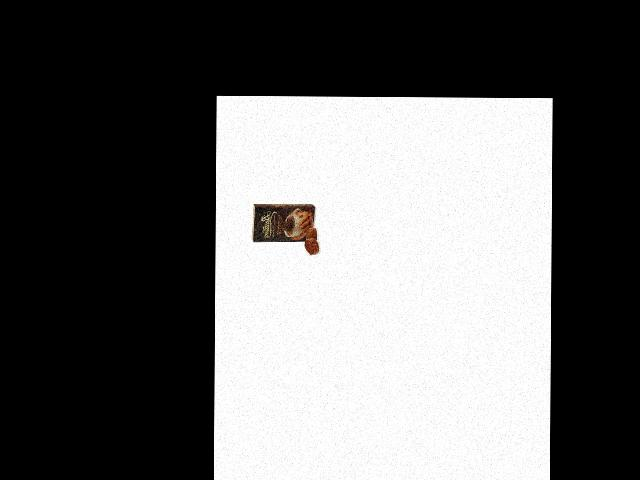chocolate: (249, 201, 317, 247)
